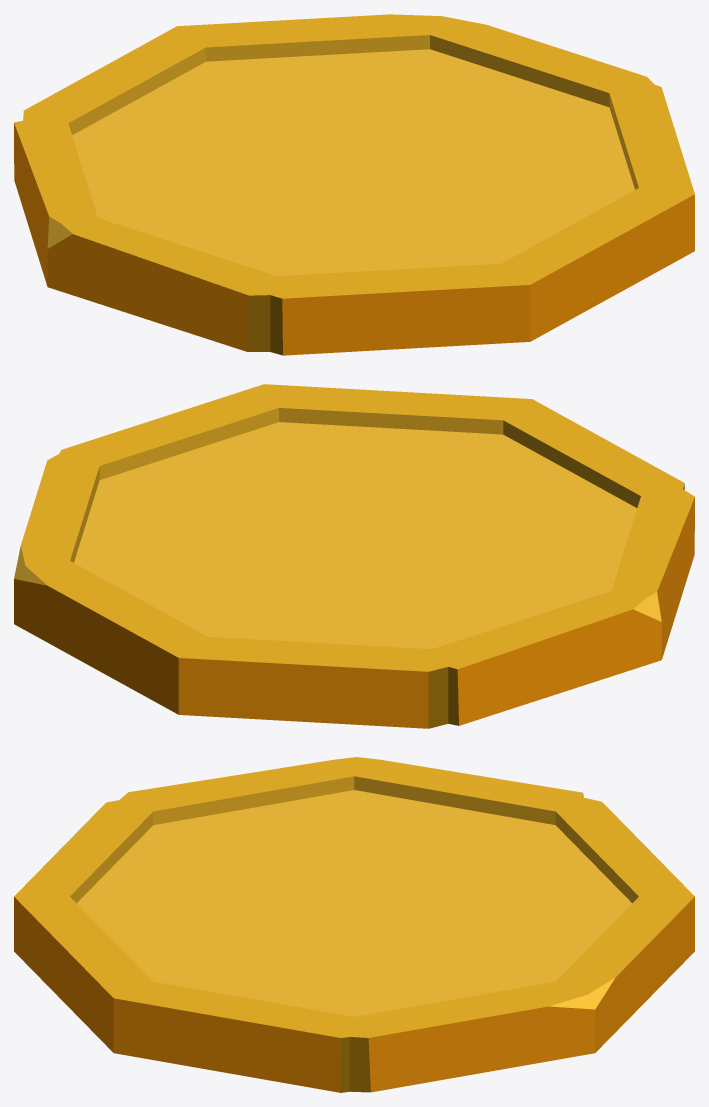
File: Coin_01.glb
The picture shows the model from 3 angles, top to bottom: view 1: azimuth 30°, elevation 25°; view 2: azimuth 150°, elevation 25°; view 3: azimuth 270°, elevation 25°; orthographic projection. The views are drawn at different scales.
Visible parts, largest first — view 1: Coin_01; view 2: Coin_01; view 3: Coin_01.
Boxes of the visible parts, x1,y1,x2,y2 form: Coin_01: (14,14,694,355); Coin_01: (14,384,694,728); Coin_01: (14,757,694,1092).
Size of the model in its own units: 0.1096 by 0.0103 by 0.1105.
1 material, 1 textured.
